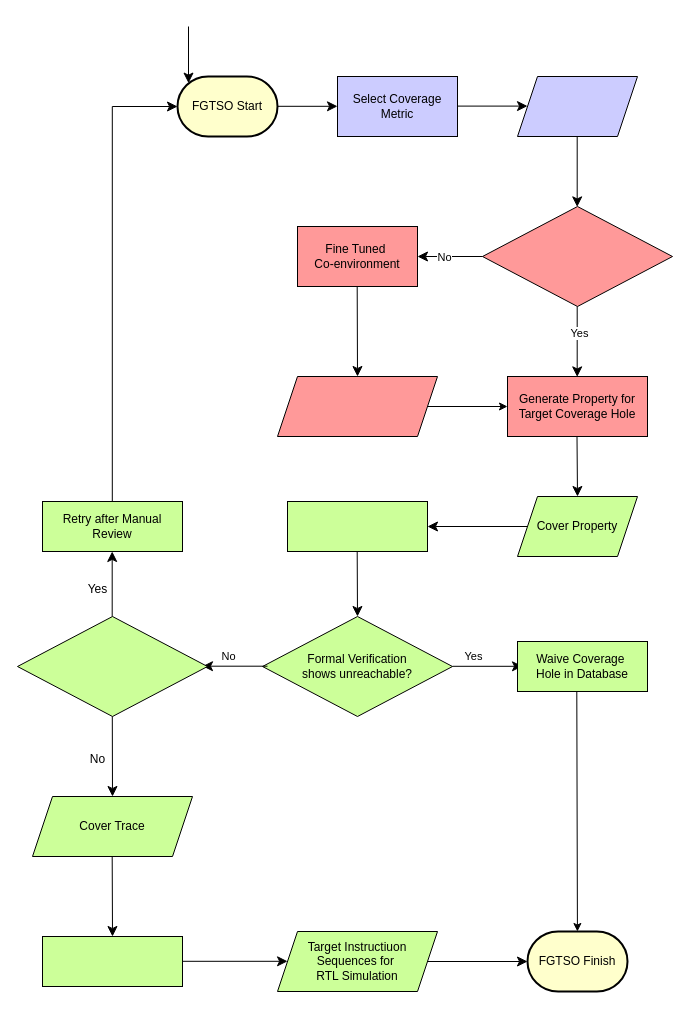
This 690x1010 diagram has some shape labels left out. Here are the shapes that lost their labels. From the top down, the box of each, then its label:
(516, 76, 638, 136): Target Coverage Hole
(482, 206, 672, 306): Formal Assumptions Aligned with UVM Constraints?
(276, 376, 438, 436): Assume Property for Formal Env. Setting
(286, 500, 428, 552): Run Formal Tool for Cover Trace
(16, 616, 208, 716): Run Out of Resources?
(42, 936, 182, 986): Generate Instruction Sequence
